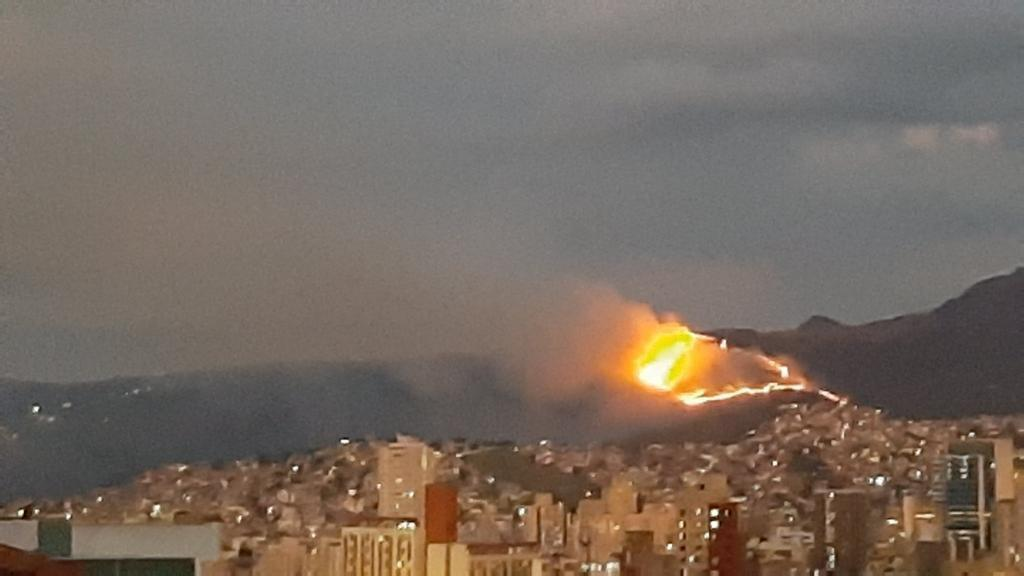fire: (637, 327, 683, 391), (679, 382, 807, 404), (769, 359, 790, 380)
